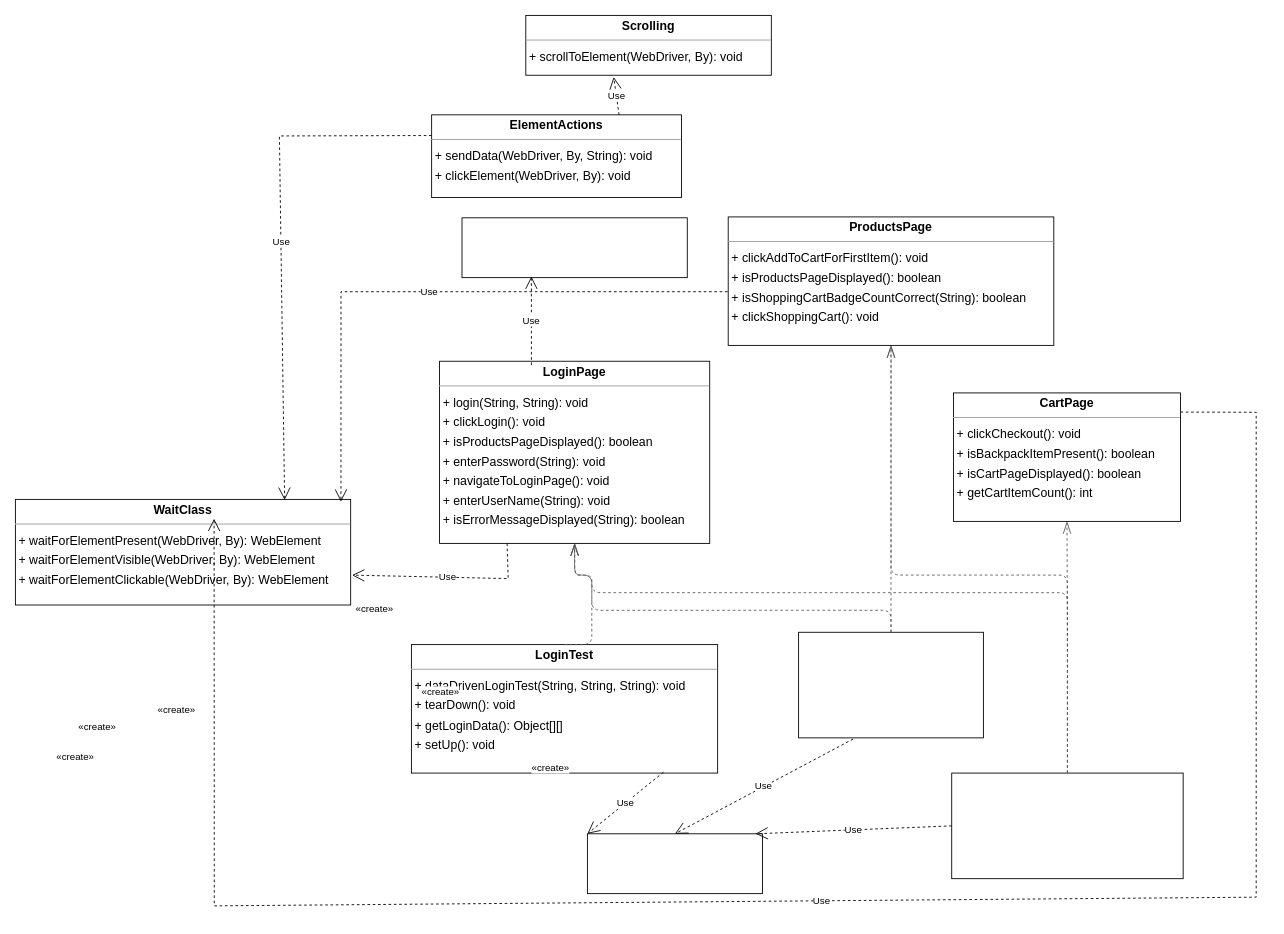
Image size: 1284x934. Some labels were removed from this diagram. Each missing label, with the box of its shape:
BrowserActions + openURL(WebDriver, String): void: (461, 217, 687, 278)
CartTest + verifyItemAndCheckoutTest(): void + setUp(): void + tearDown(): void: (951, 772, 1183, 879)
DriverSetup + driverSetup(): WebDriver: (587, 833, 763, 894)
ProductsTest + addItemToCartTest(): void + tearDown(): void + setUp(): void: (798, 631, 983, 738)
